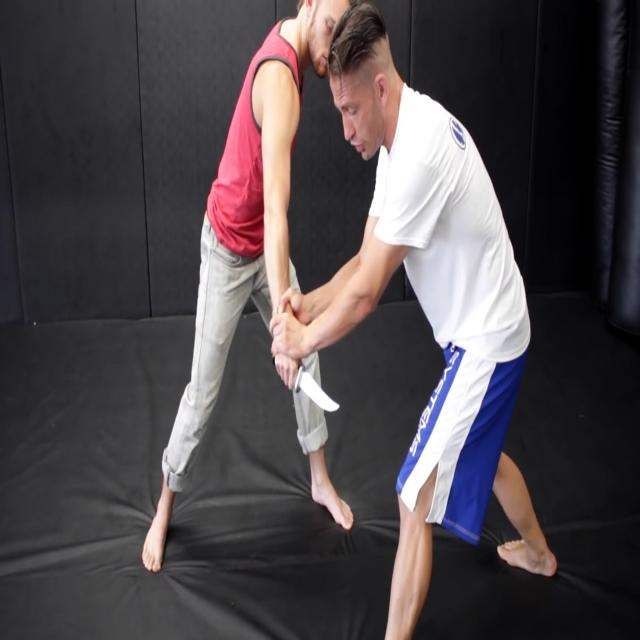knife: (300, 364, 342, 421)
